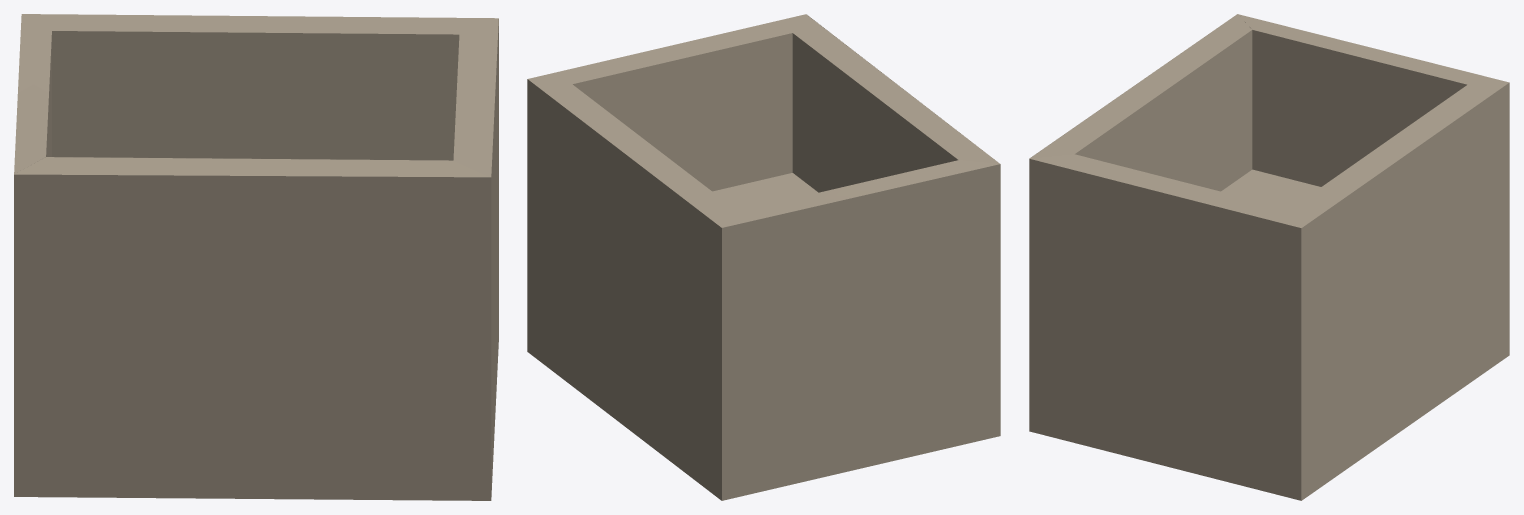
The model's file is MSH_QuestObject_locker_01.fbx.
3 views of the same model, side by side, from view 1: azimuth 30°, elevation 25°; view 2: azimuth 150°, elevation 25°; view 3: azimuth 270°, elevation 25° (orthographic). The views are drawn at different scales.
Parts seen in each view (by area): view 1: MSH_QuestObject_locker_01; view 2: MSH_QuestObject_locker_01; view 3: MSH_QuestObject_locker_01.
Boxes of the visible parts, bbox=[...] form: MSH_QuestObject_locker_01: bbox=[14, 14, 498, 500]; MSH_QuestObject_locker_01: bbox=[527, 14, 1000, 500]; MSH_QuestObject_locker_01: bbox=[1029, 14, 1509, 500].
Bounding box in the file's own units: 0.7487 × 0.4428 × 0.7065.
